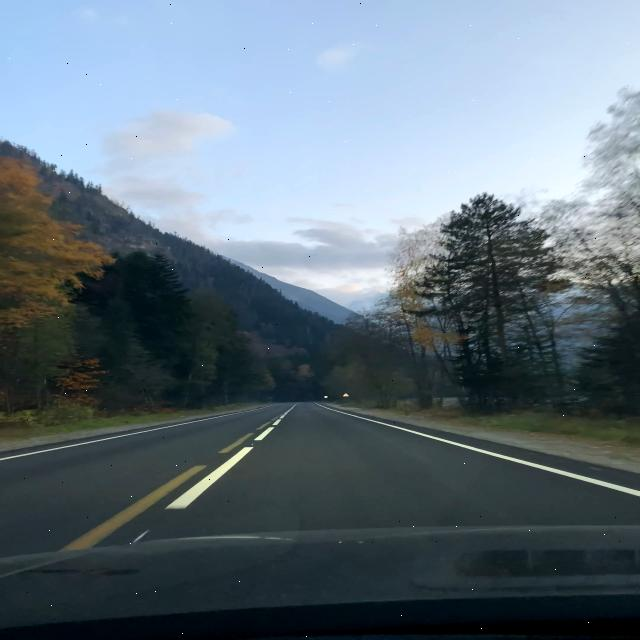lane: (328, 408, 638, 495), (169, 447, 252, 507), (256, 426, 273, 439)
road: (2, 404, 638, 637)
